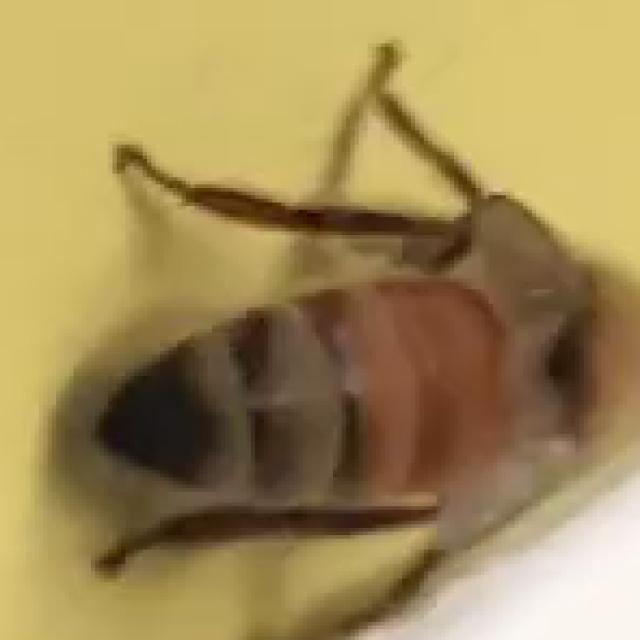honeybee: (45, 53, 635, 607)
